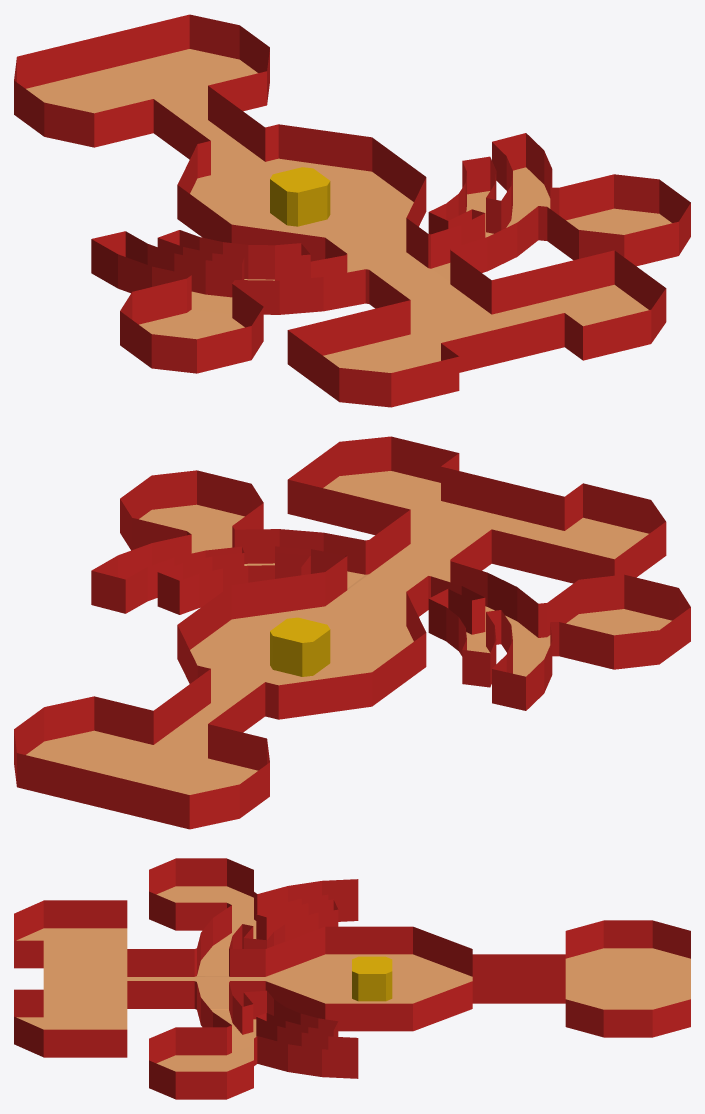
Rendered from mapa-nivel-2.fbx.
3 renders of one model, top to bottom at view 1: azimuth 30°, elevation 25°; view 2: azimuth 150°, elevation 25°; view 3: azimuth 270°, elevation 25°, orthographic. The views are drawn at different scales.
Parts seen in each view (by area): view 1: piso.central, reactor; view 2: piso.central, reactor; view 3: piso.central, reactor.
Boxes of the visible parts, <box> form: piso.central: <box>14,14,690,407</box>; reactor: <box>270,167,330,226</box>; piso.central: <box>14,436,690,829</box>; reactor: <box>270,617,330,676</box>; piso.central: <box>14,858,690,1099</box>; reactor: <box>352,956,392,1001</box>.
Bounding box in the file's own units: 232 × 14.37 × 312.
